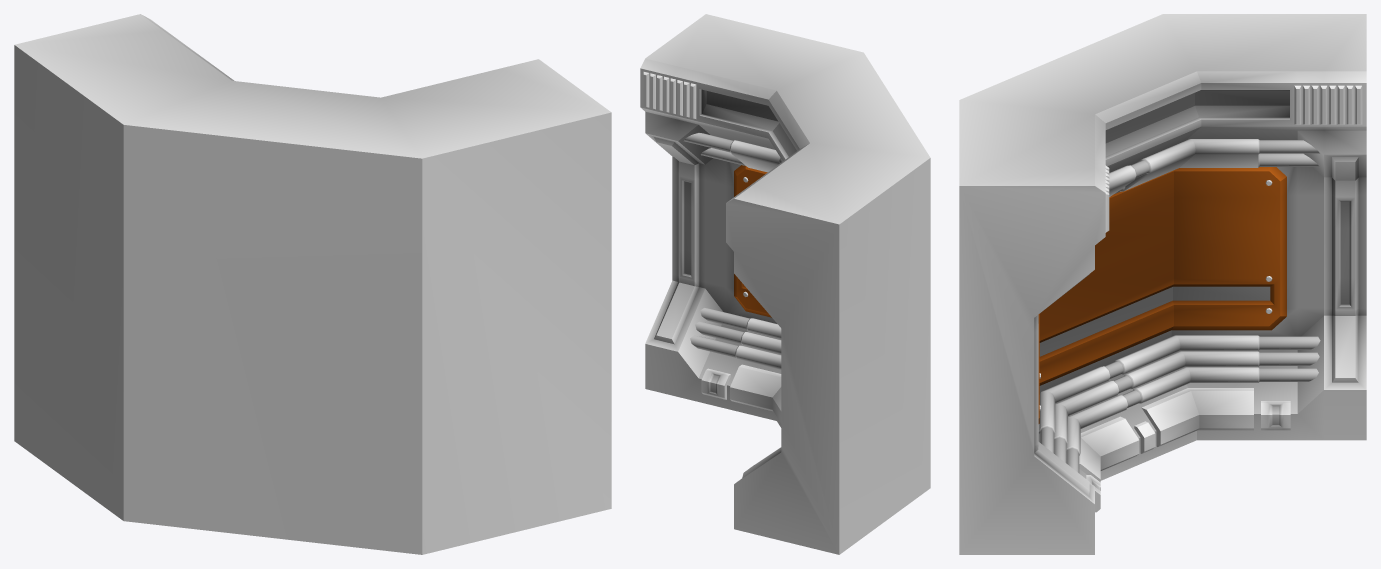
Rendered from wallCurveIn.FBX.
3 renders of one model, left to right at view 1: azimuth 30°, elevation 25°; view 2: azimuth 150°, elevation 25°; view 3: azimuth 270°, elevation 25°, orthographic. The views are drawn at different scales.
Parts seen in each view (by area): view 1: wallCurveIn; view 2: wallCurveIn; view 3: wallCurveIn.
Part boxes in pixels (x1=…): wallCurveIn: x1=14, y1=14, x2=611, y2=554; wallCurveIn: x1=640, y1=14, x2=930, y2=554; wallCurveIn: x1=959, y1=14, x2=1366, y2=554.
Bounding box in the file's own units: 3 × 3 × 3.
